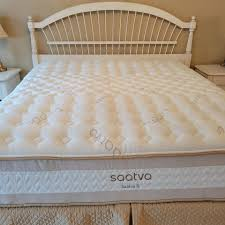bed-matress: (1, 56, 225, 208)
